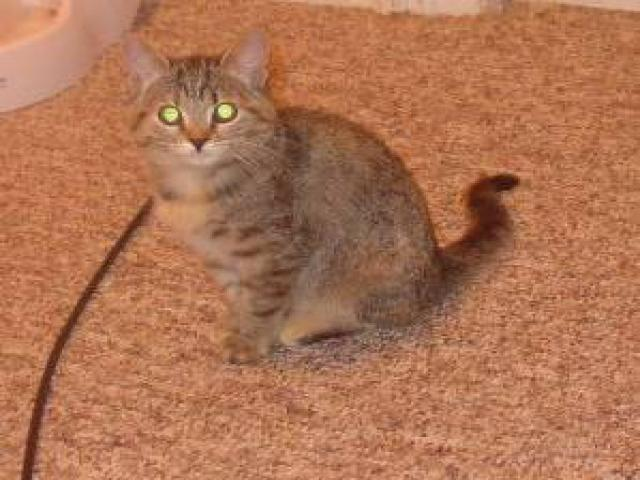cat: (118, 25, 527, 368)
